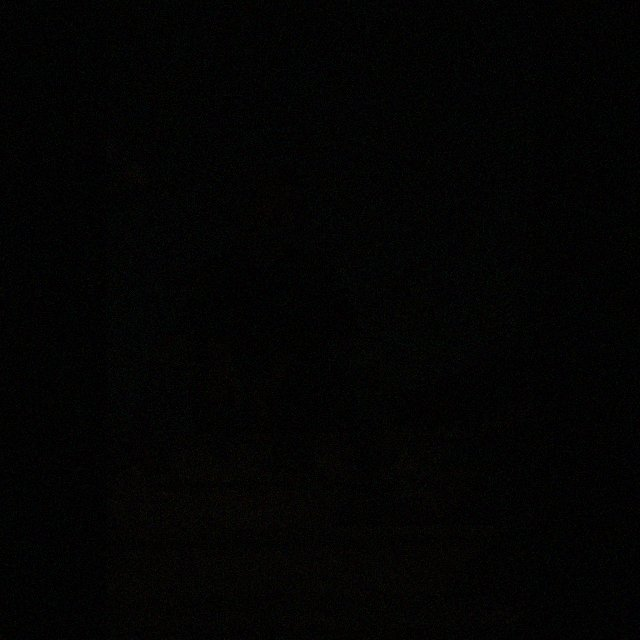stair: (105, 356, 536, 639)
